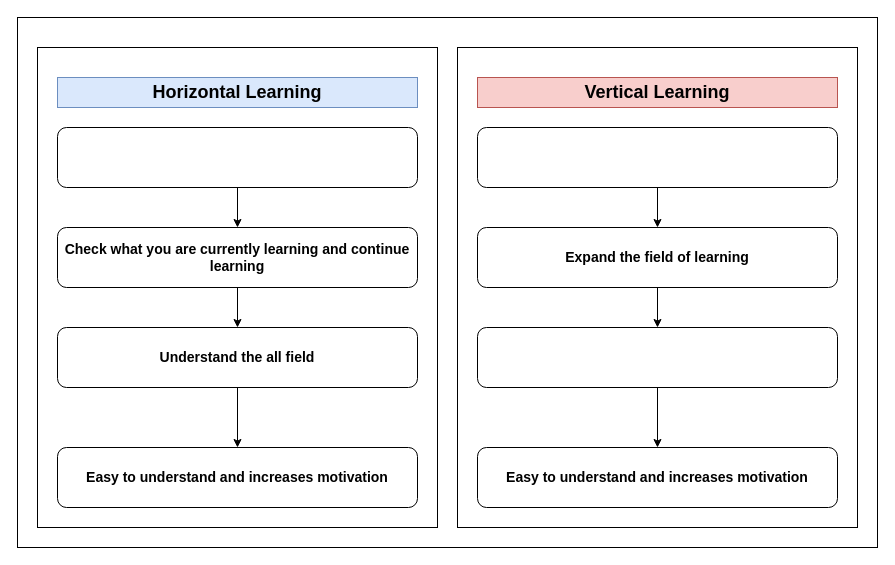
Image size: 895x565. Some labels were removed from this diagram. The box of each missing label's shape, as (x1, y1, x2, y2) in pixels:
Check the table of contents to see the whole aspects: (56, 126, 418, 188)
Grasp the whole aspects: (476, 326, 838, 388)
Start from what interests you: (476, 126, 838, 188)
